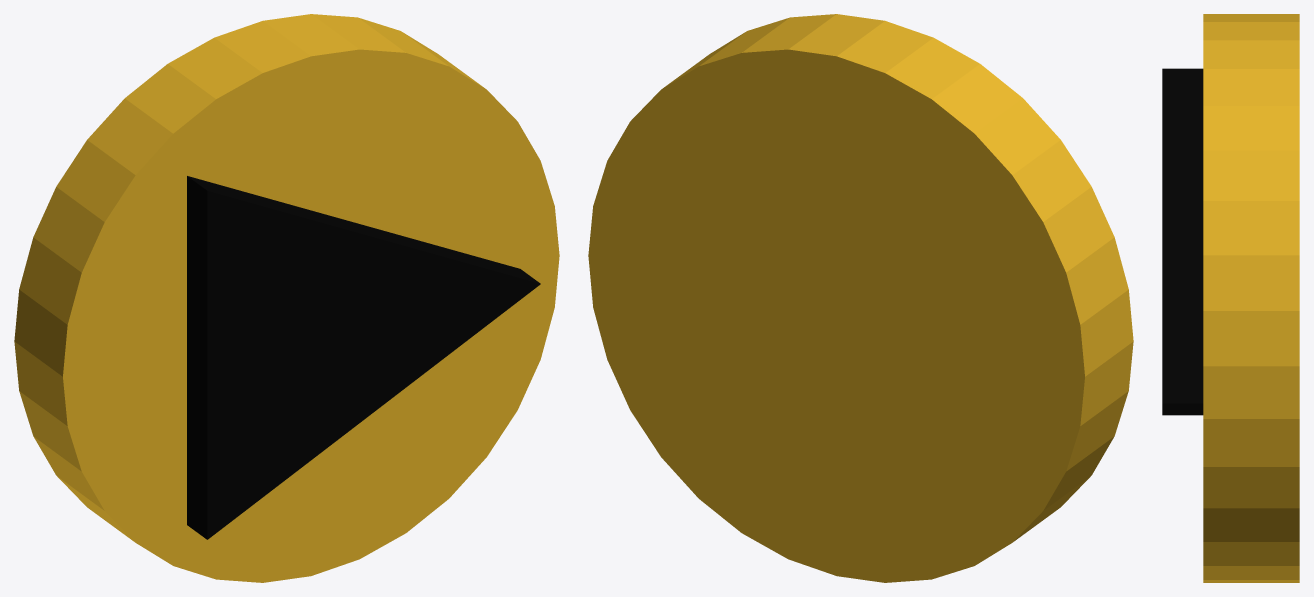
The model's file is timesupStart.fbx.
3 renders of one model, left to right at view 1: azimuth 30°, elevation 25°; view 2: azimuth 150°, elevation 25°; view 3: azimuth 270°, elevation 25°, orthographic.
Visible parts, largest first — view 1: A.002; view 2: A.002; view 3: A.002.
Boxes of the visible parts, x1,y1,x2,y2 form: A.002: (14, 14, 559, 582); A.002: (588, 14, 1133, 582); A.002: (1162, 14, 1299, 582).
Bounding box in the file's own units: 20 × 20 × 4.82.
